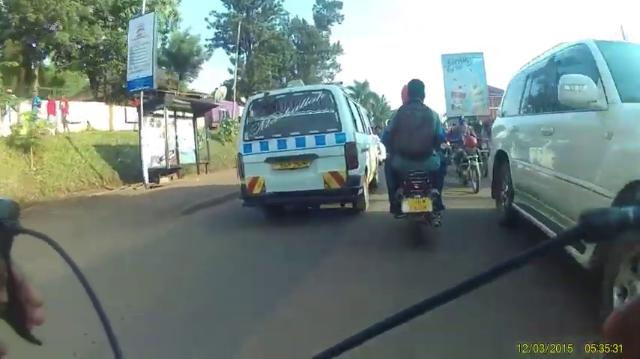car: (491, 38, 640, 316)
motorcycle: (379, 80, 448, 250), (450, 119, 486, 200)
van: (237, 80, 378, 213)
